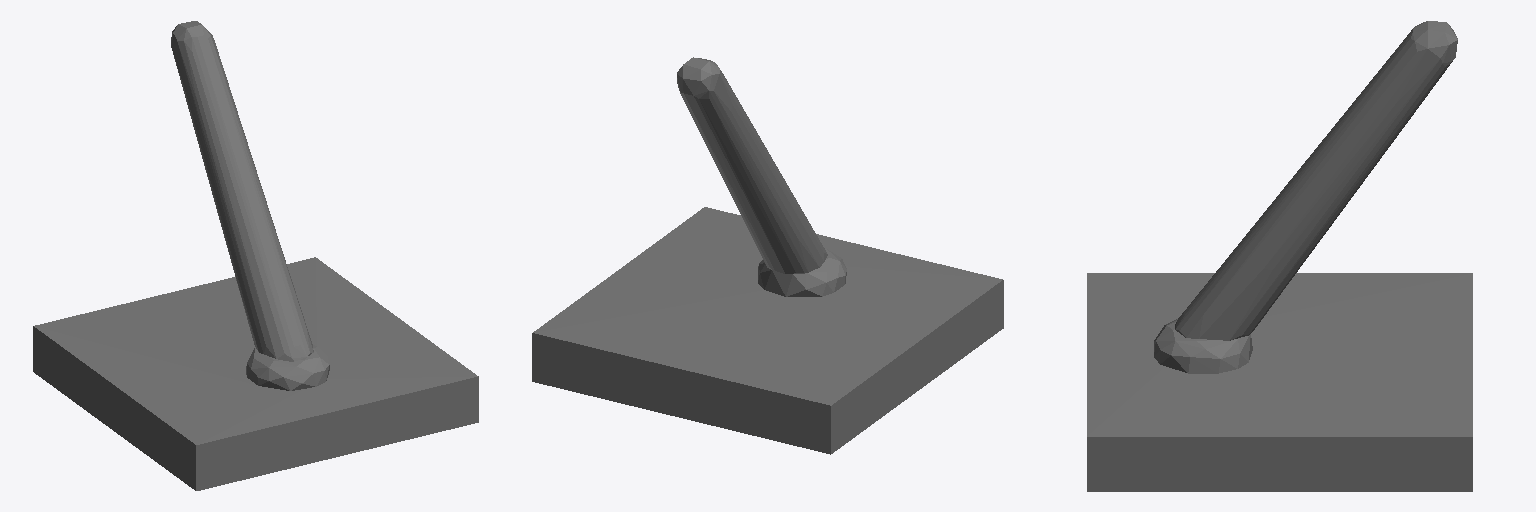
robot.urdf — base.urdf:
<?xml version='1.0' encoding='utf-8'?>
<robot name="base.urdf">
  <link name="baseLink">
    <contact>
      <lateral_friction value="0.5" />
      <rolling_friction value="0.0" />
      <contact_cfm value="0.0" />
      <contact_erp value="1.0" />
    </contact>
    <inertial>
      <origin rpy="0 0 0" xyz="3.049835254654248e-05 -0.0006459112509138083 0.014243698232970095" />
       <mass value="0.0" />
       <inertia ixx="1e-3" ixy="0" ixz="0" iyy="1e-3" iyz="0" izz="1e-3" />
    </inertial>
    <visual>
      <origin rpy="0 0 0" xyz="0 0 0" />
      <geometry>
        <mesh filename="base.obj" scale="0.5 0.5 0.5" />
      </geometry>
       <material name="gray">
        <color rgba="0.5 0.5 0.5 1" />
      </material>
    </visual>
    <collision>
      <geometry>
        <mesh filename="base.obj" scale="0.5 0.5 0.5" />
      </geometry>
    </collision>
  </link>
</robot>

--- Facts derived from the render (not from the file) ---
3 views of the same robot in one strip: view 1: azimuth 30°, elevation 25°; view 2: azimuth 150°, elevation 25°; view 3: azimuth 270°, elevation 25° (orthographic).
Model base.urdf with 1 links and 0 joints (none), rooted at baseLink, posed every joint at zero.
Links seen in each view (by area): view 1: baseLink; view 2: baseLink; view 3: baseLink.
Link boxes in pixels (x1,y1,x2,y2): baseLink: (33,21,478,490); baseLink: (532,57,1003,454); baseLink: (1087,21,1472,491).
Bounding box of the posed robot: 0.0457 × 0.0457 × 0.0503 m (x, y, z).
1 mesh visuals loaded from 1 distinct referenced files (1 OBJ).